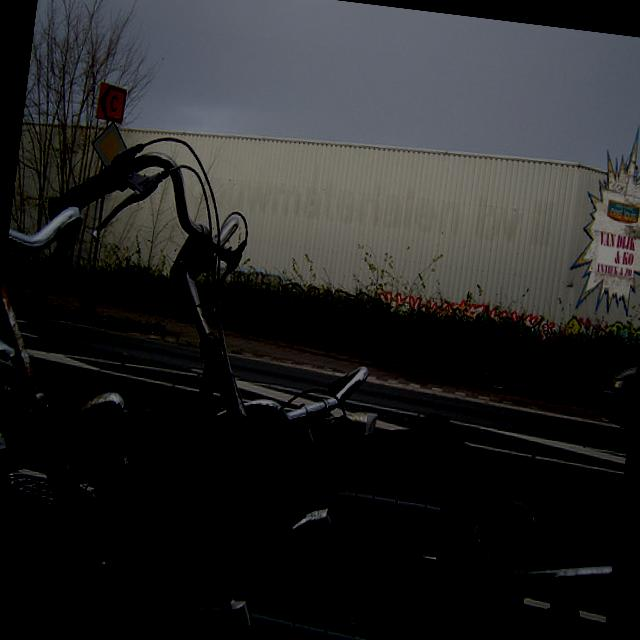Vehicle: (594, 353, 638, 440)
